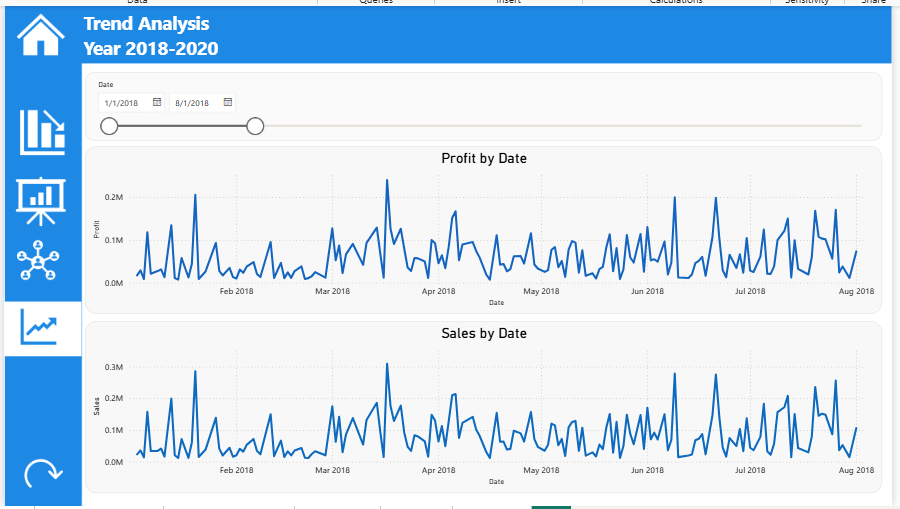

What the dashboard file says about the page in this screenshot:
{"tool":"powerbi","page":{"name":"Trend","canvas":[1280,720],"ordinal":4},"visuals":[{"type":"lineChart","fields":{"Y":["Sum(Sales Data.Profit)"],"Category":["Calender.Date"]},"box":[116.6,201.6,1147.7,241.9],"z":0},{"type":"slicer","title":"Date","fields":{"Values":["Calender.Date"]},"box":[132.5,95,1147.7,99.4],"z":1000},{"type":"lineChart","title":"Sales by Date","fields":{"Category":["Calender.Date"],"Y":["Sum(Sales Data.Sales)"]},"box":[116.6,453.6,1147.7,247.7],"z":2000},{"type":"shape","box":[1.4,4.3,112.3,82.1],"z":3000},{"type":"shape","box":[0,145.4,109.4,80.6],"z":4000},{"type":"shape","box":[0,231.8,109.4,90.7],"z":5000},{"type":"shape","box":[0,326.9,109.4,80.6],"z":6000},{"type":"textbox","box":[109.4,0,230.4,82.1],"z":7000},{"type":"actionButton","box":[0,626.4,109.4,82.1],"z":8000}]}

Visuals, with their boxes on the page's 1280x720 design canvas (x1, y1, x2, y2). These are canvas units, not pixel positions in the 900x509 screenshot, which may show the page scaled, cropped or inside an application window:
lineChart - Sum(Sales Data.Profit) x Calender.Date: bbox(117, 202, 1264, 444)
"Date" slicer: bbox(132, 95, 1280, 194)
"Sales by Date" lineChart: bbox(117, 454, 1264, 701)
shape: bbox(1, 4, 114, 86)
shape: bbox(0, 145, 109, 226)
shape: bbox(0, 232, 109, 322)
shape: bbox(0, 327, 109, 408)
textbox: bbox(109, 0, 340, 82)
actionButton: bbox(0, 626, 109, 708)
